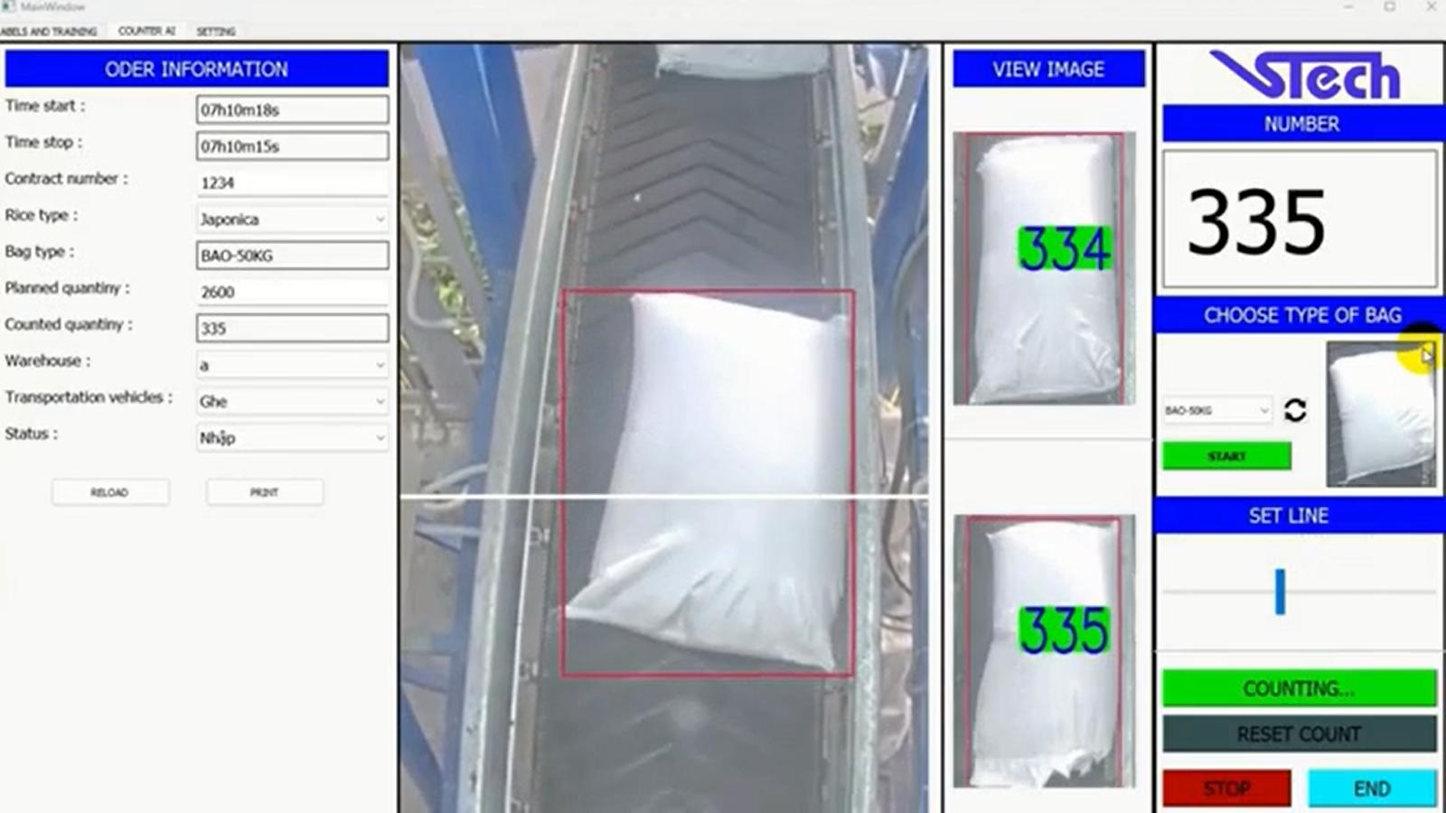rice-bag: (566, 294, 851, 673), (964, 135, 1122, 404), (966, 519, 1122, 788)
